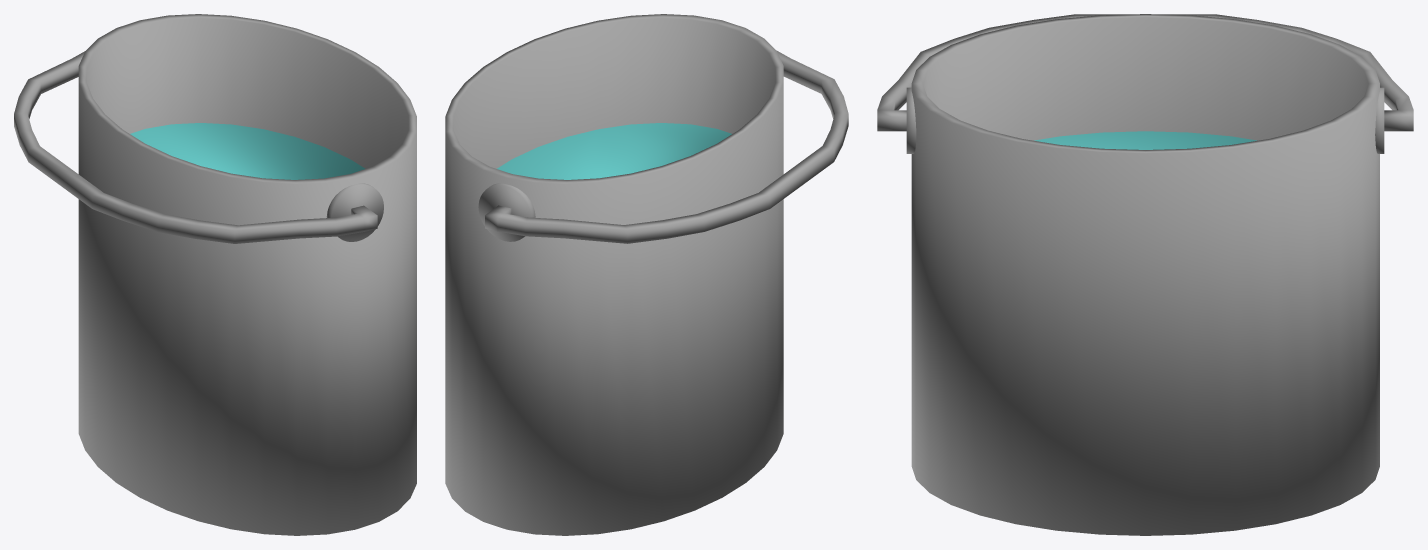
Rendered from Kotelok.fbx.
3 views of the same model, side by side, from view 1: azimuth 30°, elevation 25°; view 2: azimuth 150°, elevation 25°; view 3: azimuth 270°, elevation 25° (orthographic). The views are drawn at different scales.
Visible parts, largest first — view 1: Cylinder.021; view 2: Cylinder.021; view 3: Cylinder.021.
Boxes of the visible parts, left/top/right/bottom form: Cylinder.021: left=14, top=14, right=416, bottom=535; Cylinder.021: left=445, top=14, right=848, bottom=535; Cylinder.021: left=877, top=14, right=1413, bottom=535.
Size of the model in its own units: 21.08 by 22.22 by 28.26.
